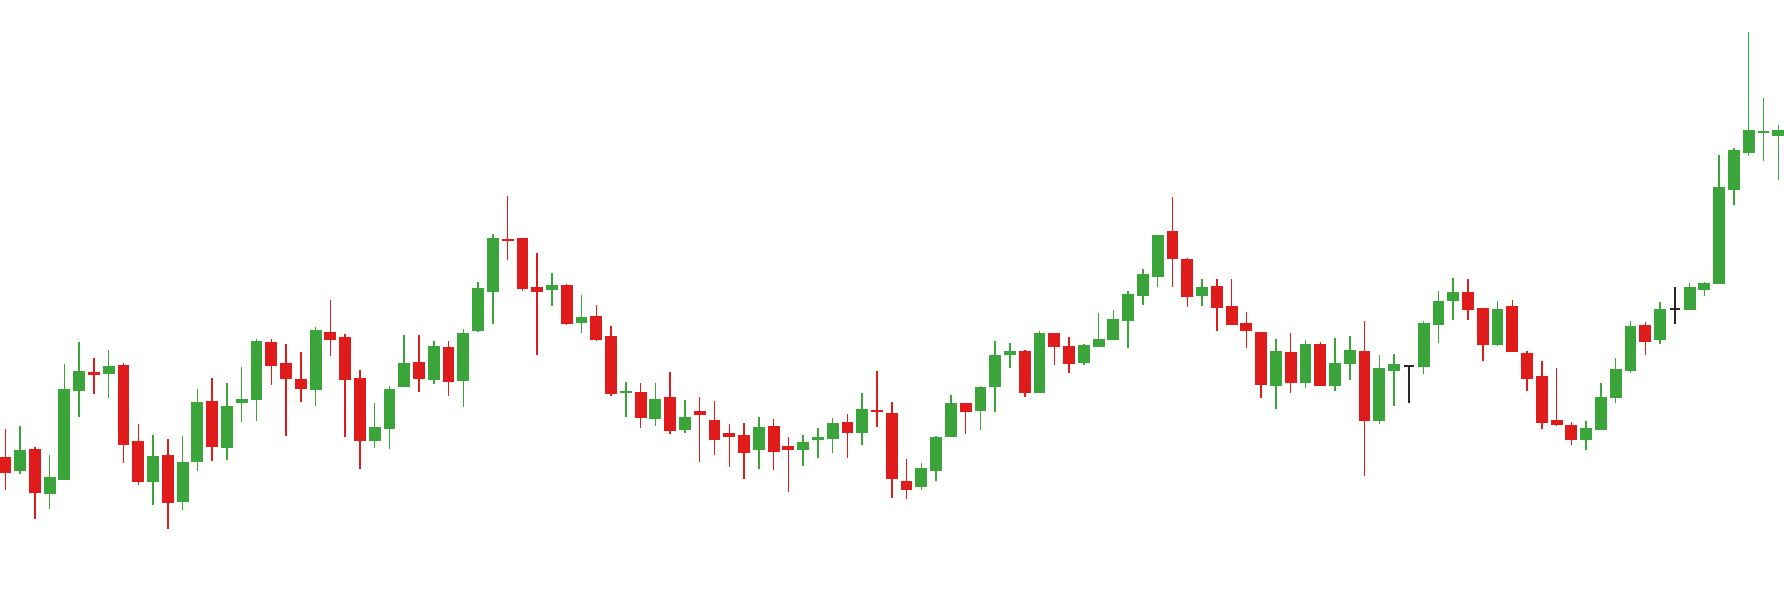buy: (276, 363, 385, 477), (782, 426, 928, 502)
